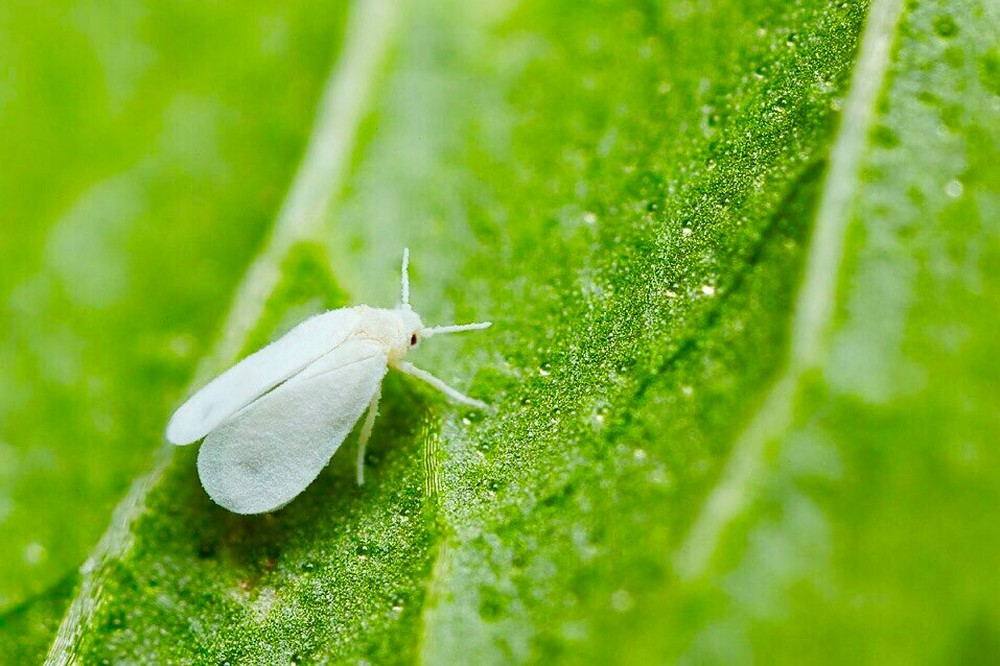Mosca Blanca: (147, 242, 512, 511)
